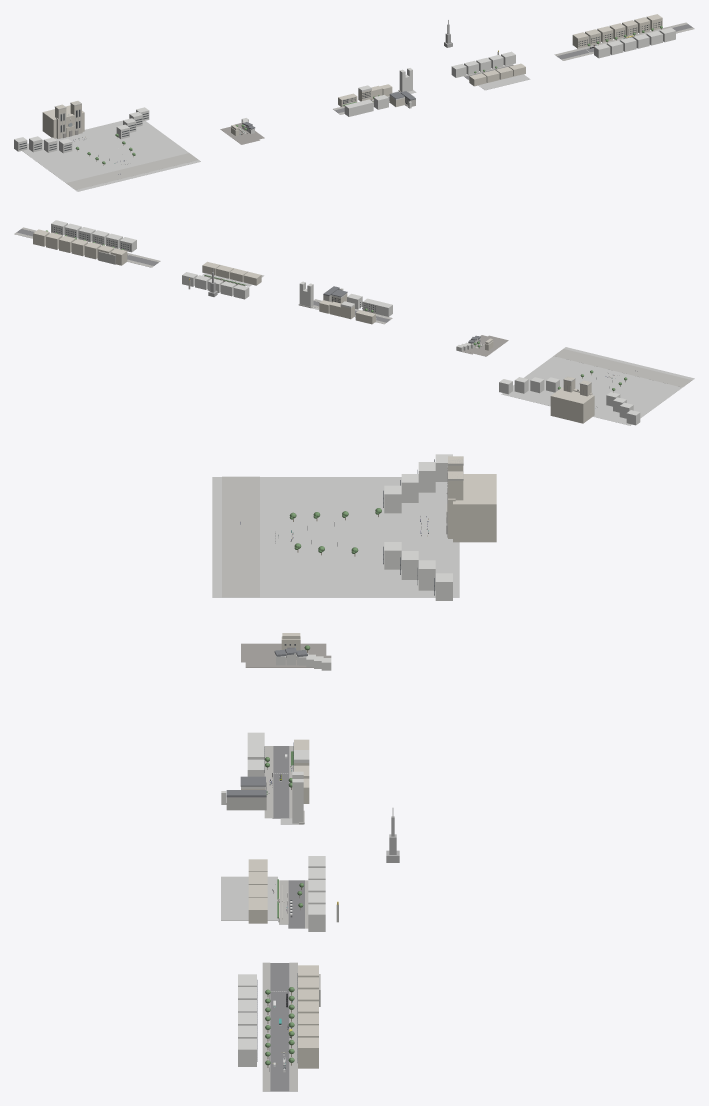
The picture shows the model from 3 angles, top to bottom: view 1: azimuth 30°, elevation 25°; view 2: azimuth 150°, elevation 25°; view 3: azimuth 270°, elevation 25°; orthographic projection. The views are drawn at different scales.
Parts seen in each view (by area): view 1: s01_parvis, s01_front_walk, s01_cathedral_body, s01_cathedral_facade, s03_south_block, s04_terrace_top, s02_street; view 2: s01_parvis, s01_front_walk, s01_cathedral_body, s03_south_block, s02_street; view 3: s01_parvis, s01_front_walk, s01_cathedral_body, s05_road, s04_terrace_top, s03_road, s02_street, s05_north_walk.
Part boxes in pixels (x1,y1,x2,y2): s01_parvis: [22, 120, 200, 191]; s01_front_walk: [66, 153, 198, 189]; s01_cathedral_body: [42, 105, 84, 138]; s01_cathedral_facade: [56, 113, 82, 138]; s03_south_block: [344, 99, 373, 116]; s04_terrace_top: [478, 74, 530, 90]; s02_street: [220, 124, 259, 144]; s01_parvis: [501, 347, 694, 425]; s01_front_walk: [554, 349, 691, 387]; s01_cathedral_body: [550, 387, 594, 423]; s03_south_block: [362, 298, 392, 316]; s02_street: [467, 335, 508, 356]; s01_parvis: [212, 477, 459, 597]; s01_front_walk: [222, 476, 259, 597]; s01_cathedral_body: [453, 474, 496, 542]; s05_road: [270, 963, 289, 1091]; s04_terrace_top: [221, 876, 277, 920]; s03_road: [272, 746, 289, 818]; s02_street: [241, 643, 326, 662]; s05_north_walk: [289, 962, 297, 1091].
Size of the model in its own units: 1539 by 91.6 by 299.
